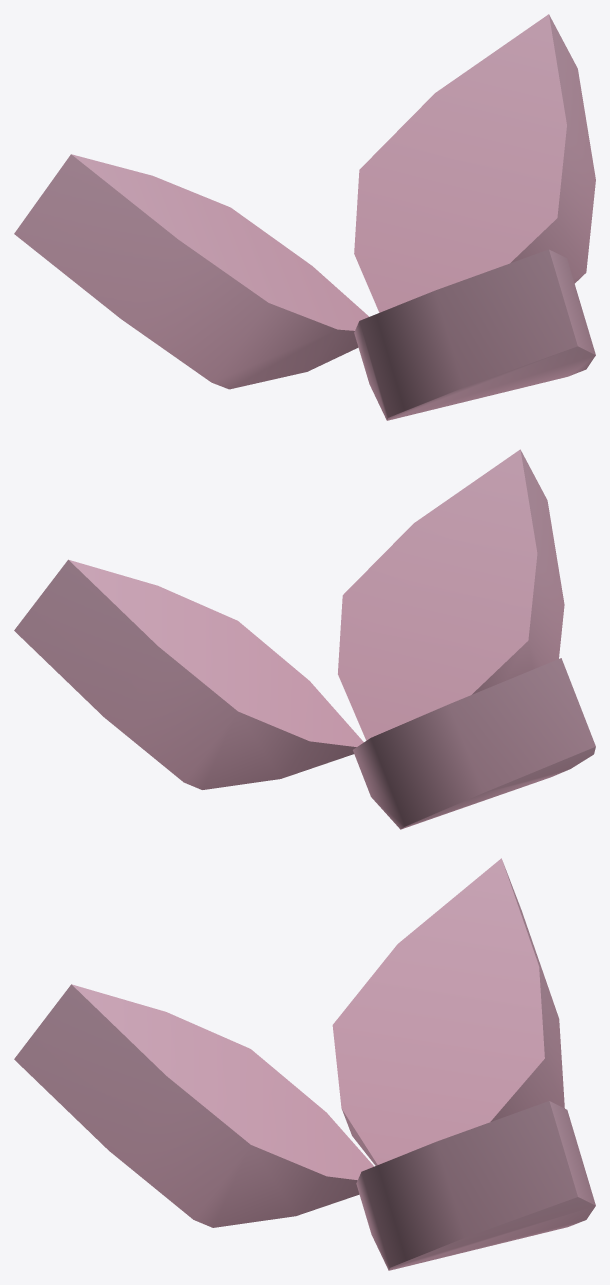
File: organic-flower-c.glb
The picture shows the model from 3 angles, top to bottom: view 1: azimuth 30°, elevation 25°; view 2: azimuth 150°, elevation 25°; view 3: azimuth 270°, elevation 25°; orthographic projection. The views are drawn at different scales.
Parts seen in each view (by area): view 1: organic-flower-c; view 2: organic-flower-c; view 3: organic-flower-c.
Boxes of the visible parts, x1,y1,x2,y2 form: organic-flower-c: (14,14,595,420); organic-flower-c: (14,449,595,829); organic-flower-c: (14,858,595,1270).
Bounding box in the file's own units: 0.1531 × 0.0498 × 0.1315.
